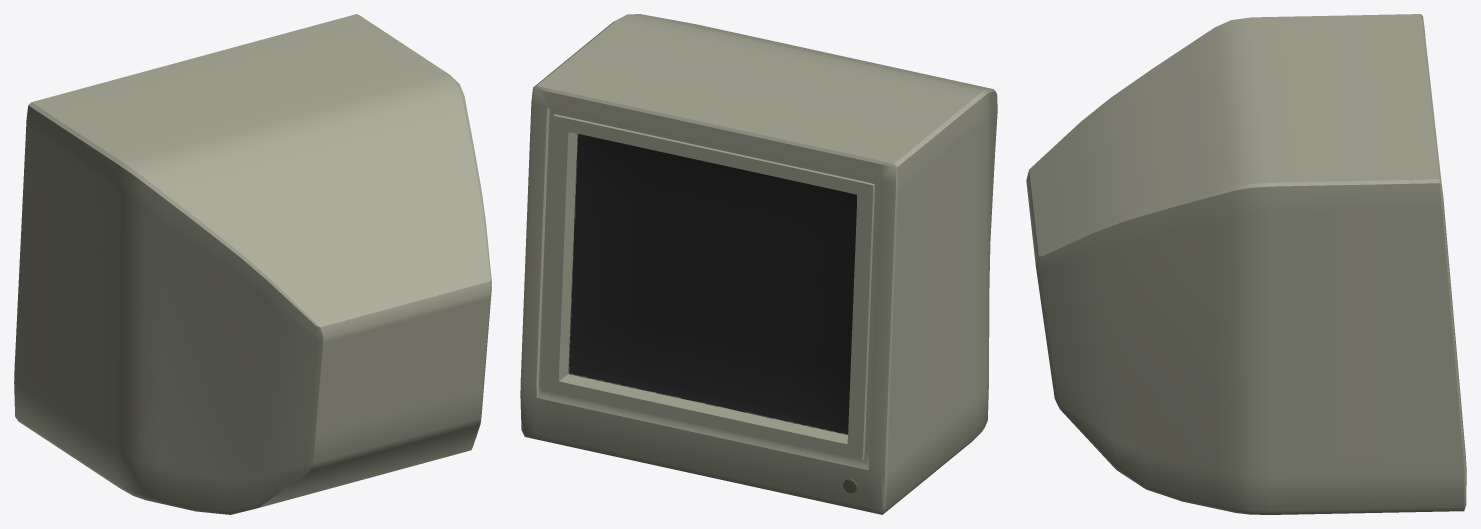
Rendered from Monitor.fbx.
The picture shows the model from 3 angles, left to right: view 1: azimuth 30°, elevation 25°; view 2: azimuth 150°, elevation 25°; view 3: azimuth 270°, elevation 25°; orthographic projection. The views are drawn at different scales.
Parts seen in each view (by area): view 1: Monitor_Cylinder:021_Cylinder:043.001; view 2: Monitor_Cylinder:021_Cylinder:043.001; view 3: Monitor_Cylinder:021_Cylinder:043.001.
Boxes of the visible parts, left/top/right/bottom form: Monitor_Cylinder:021_Cylinder:043.001: left=14, top=14, right=491, bottom=514; Monitor_Cylinder:021_Cylinder:043.001: left=520, top=14, right=997, bottom=514; Monitor_Cylinder:021_Cylinder:043.001: left=1026, top=14, right=1466, bottom=514.
Bounding box in the file's own units: 236 × 211 × 253.
1 material, 1 textured.
